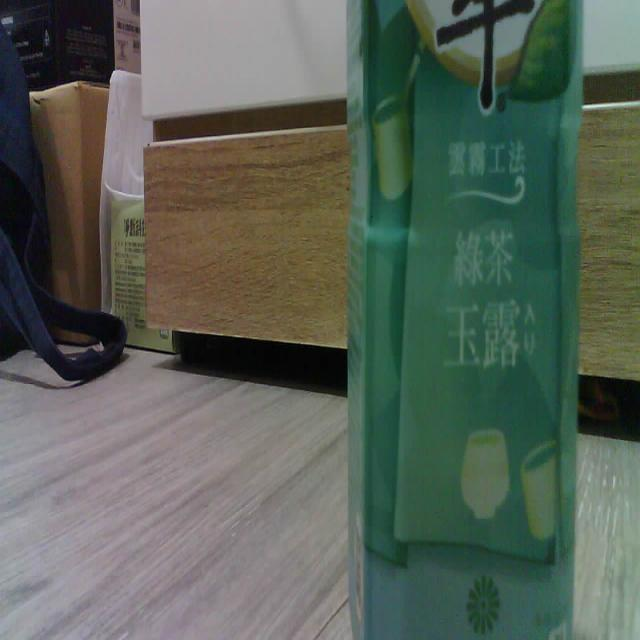bottle: (347, 0, 582, 639)
